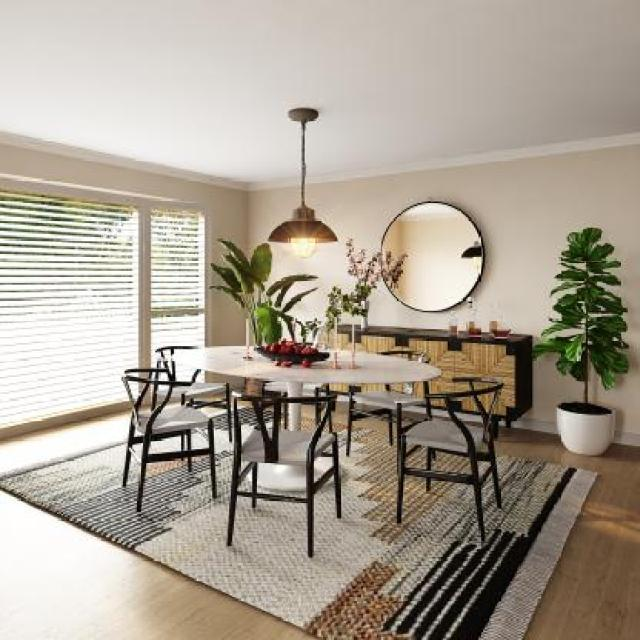floor: (0, 389, 640, 640)
